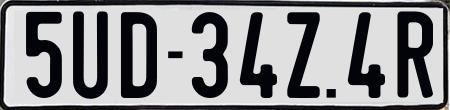3: (191, 9, 228, 97)
4: (238, 9, 281, 95), (348, 12, 387, 100)
5: (26, 10, 65, 97)
D: (118, 12, 154, 102)
R: (396, 8, 431, 97)
U: (73, 8, 109, 102)
Z: (286, 9, 325, 96)
